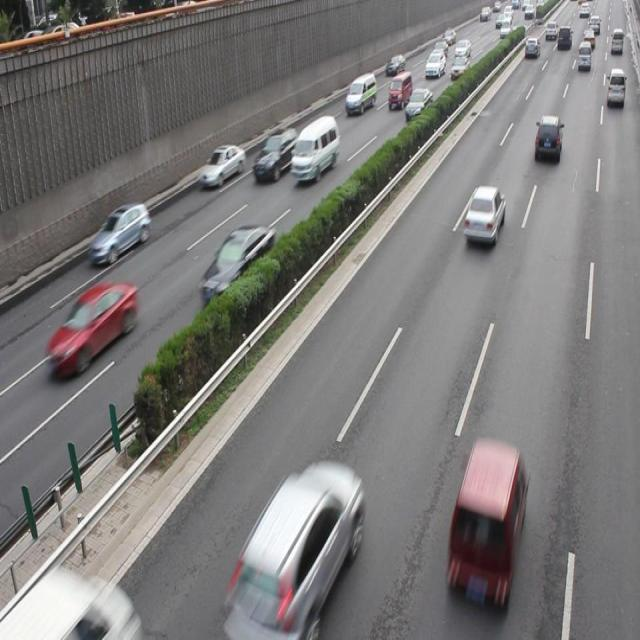car: (232, 463, 361, 640), (445, 438, 527, 597), (46, 278, 136, 374), (200, 222, 275, 303), (90, 200, 150, 264), (252, 127, 298, 181), (462, 184, 503, 243), (198, 142, 245, 189), (532, 114, 562, 161), (404, 86, 432, 120)
truck: (290, 115, 339, 181)
